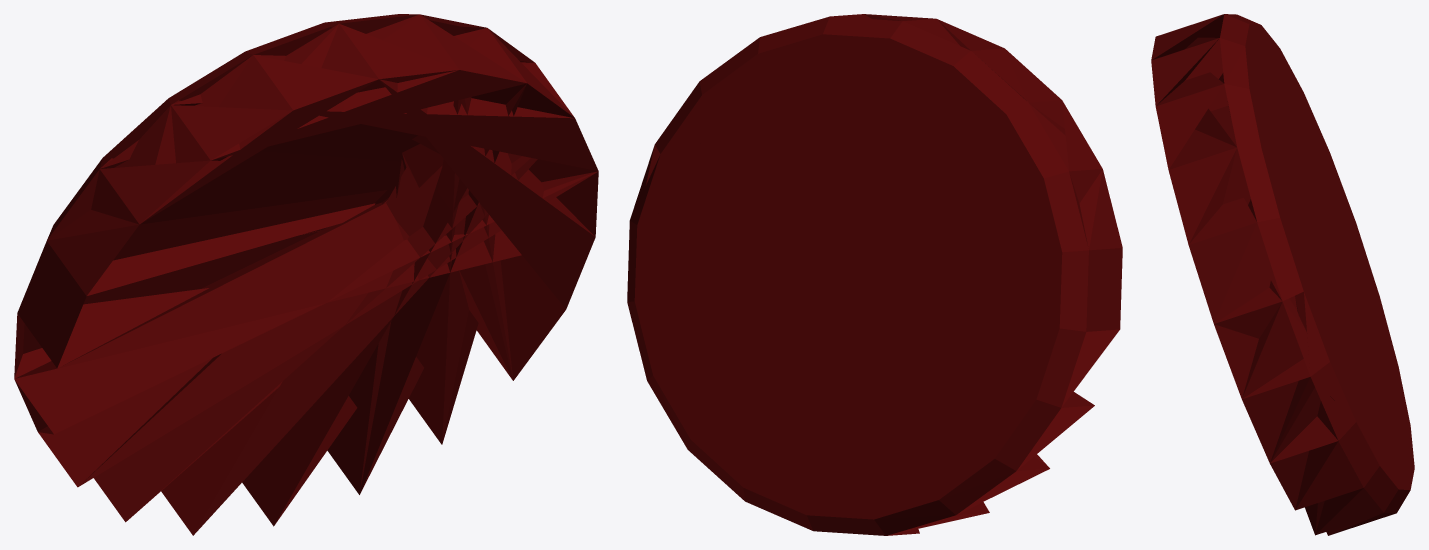
The model's file is S.S._Dolphin_Whimsical_Radar_1.obj.
The picture shows the model from 3 angles, left to right: view 1: azimuth 30°, elevation 25°; view 2: azimuth 150°, elevation 25°; view 3: azimuth 270°, elevation 25°; orthographic projection. The views are drawn at different scales.
Visible parts, largest first — view 1: S.S._Dolphin_Whimsical_Radar_1; view 2: S.S._Dolphin_Whimsical_Radar_1; view 3: S.S._Dolphin_Whimsical_Radar_1.
Part boxes in pixels (<box>): S.S._Dolphin_Whimsical_Radar_1: <box>14,14,598,535</box>; S.S._Dolphin_Whimsical_Radar_1: <box>627,14,1122,535</box>; S.S._Dolphin_Whimsical_Radar_1: <box>1151,14,1414,535</box>.
Bounding box in the file's own units: 1.85 × 1.81 × 0.9099.
